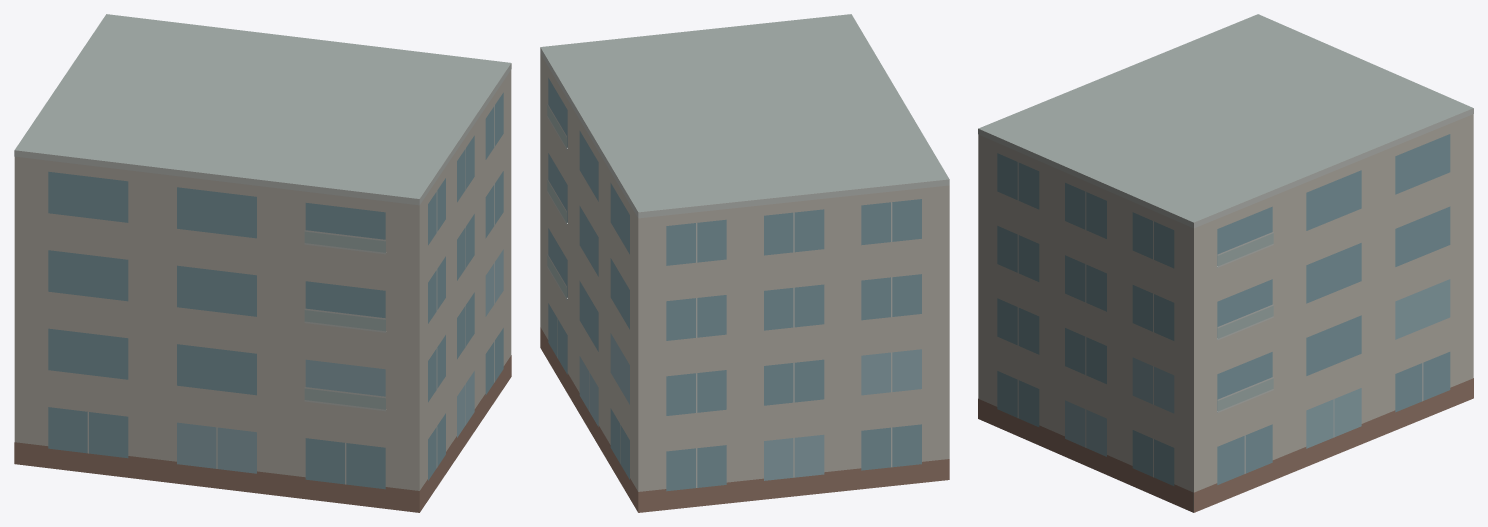
Rendered from residential-b0caab14-3918-4586-a993-e1270a0c3400.glb.
3 renders of one model, left to right at view 1: azimuth 30°, elevation 25°; view 2: azimuth 150°, elevation 25°; view 3: azimuth 270°, elevation 25°, orthographic. The views are drawn at different scales.
Visible parts, largest first — view 1: residential-b0caab14-3918-4586-a993-e1270a0c3400.tmp; view 2: residential-b0caab14-3918-4586-a993-e1270a0c3400.tmp; view 3: residential-b0caab14-3918-4586-a993-e1270a0c3400.tmp.
Boxes of the visible parts, left/top/right/bottom form: residential-b0caab14-3918-4586-a993-e1270a0c3400.tmp: left=14, top=14, right=511, bottom=512; residential-b0caab14-3918-4586-a993-e1270a0c3400.tmp: left=540, top=14, right=949, bottom=512; residential-b0caab14-3918-4586-a993-e1270a0c3400.tmp: left=978, top=14, right=1473, bottom=512.
Size of the model in its own units: 18.82 by 12.2 by 18.89.
